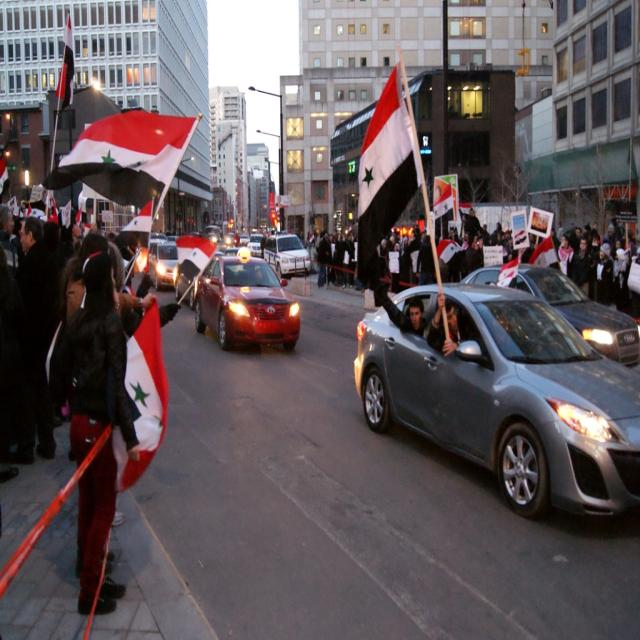car: (189, 249, 303, 356), (239, 233, 246, 244)
